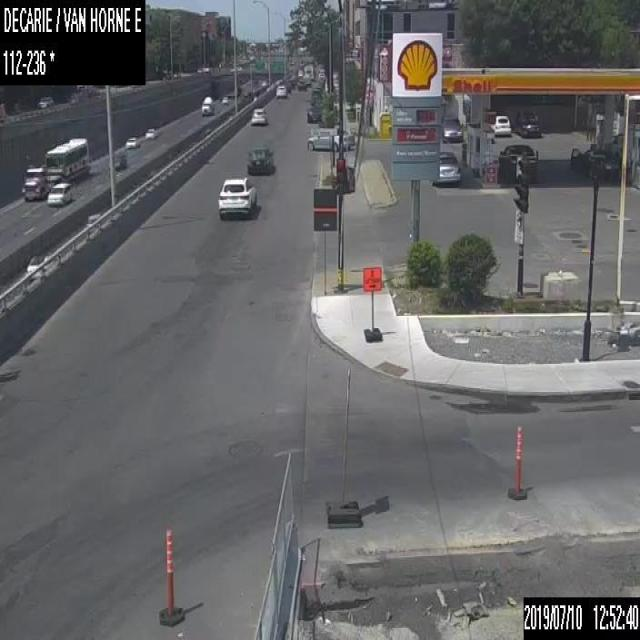bus: (303, 63, 314, 80)
construction: (253, 446, 639, 638), (325, 367, 362, 527), (156, 528, 184, 627), (362, 264, 381, 341), (508, 423, 526, 501)
pedestrian: (461, 138, 467, 167)
vehicle: (21, 136, 89, 200), (498, 143, 538, 182), (218, 175, 256, 216), (570, 146, 616, 179), (306, 128, 356, 150), (430, 150, 460, 185), (247, 145, 276, 172), (513, 114, 540, 138), (46, 180, 72, 204), (25, 253, 50, 276), (442, 116, 463, 142), (490, 114, 510, 136), (250, 106, 266, 126), (108, 153, 126, 170), (304, 104, 320, 122), (201, 94, 213, 114), (87, 213, 101, 230), (36, 95, 53, 107), (144, 126, 158, 138), (125, 136, 137, 148), (274, 82, 286, 94), (296, 78, 306, 90), (282, 79, 290, 92), (304, 78, 312, 86), (220, 95, 228, 103)
